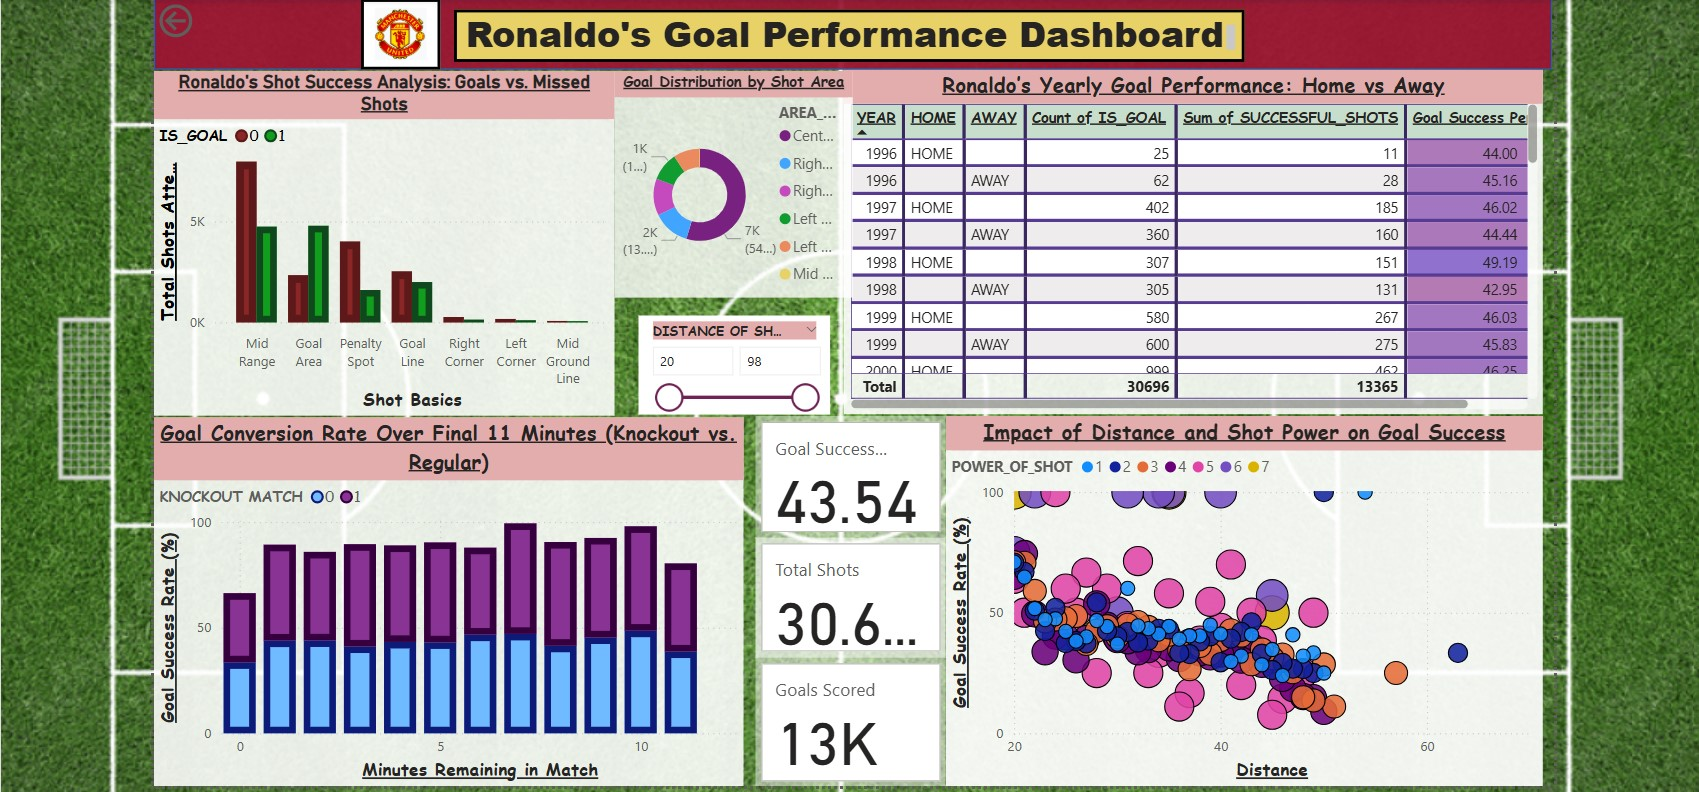

Layout of this report page (visuals, bound fields, positions):
{"tool":"powerbi","page":{"name":"Page 1","canvas":[1280,720],"ordinal":0},"visuals":[{"type":"clusteredColumnChart","title":"Ronaldo''s Shot Success Analysis: Goals vs. Missed Shots","fields":{"Y":["Count(RONALDO CS.SHOT_ID_NUMBER)"],"Category":["RONALDO CS.SHOT_BASICS"],"Series":["RONALDO CS.IS_GOAL"]},"box":[0,65.9,421.3,315.6],"z":0},{"type":"slicer","fields":{"Values":["RONALDO CS.DISTANCE_OF_SHOT"]},"box":[443.3,289.6,175.7,90.6],"z":1000},{"type":"lineStackedColumnComboChart","title":"Goal Conversion Rate Over Final 11 Minutes (Knockout vs. Regular)","fields":{"Series":["RONALDO CS.KNOCKOUT_MATCH"],"Category":["RONALDO CS.REMAINING_MIN"],"Y":["RONALDO CS.Goal Success Percentage"]},"box":[0,382.9,539.3,337.6],"z":2000},{"type":"tableEx","title":"Ronaldo’s Yearly Goal Performance: Home vs Away","fields":{"Values":["RONALDO CS.YEAR","RONALDO CS.HOME","RONALDO CS.Away","CountNonNull(RONALDO CS.IS_GOAL)","Sum(RONALDO CS.SUCCESSFUL_SHOTS)","RONALDO CS.Goal Success Percentage"]},"box":[631.3,64.5,639.5,315.6],"z":3000},{"type":"cardVisual","fields":{"Data":["RONALDO CS.Goal Success Percentage"]},"box":[550.3,381.5,174.3,111.2],"z":4000},{"type":"cardVisual","title":"Total Shots","fields":{"Data":["CountNonNull(RONALDO CS.IS_GOAL)"]},"box":[550.3,492.7,174.3,109.8],"z":5000},{"type":"scatterChart","title":"Impact of Distance and  Shot Power on Goal Success","fields":{"Size":["Avg(RONALDO CS.POWER_OF_SHOT)"],"X":["RONALDO CS.DISTANCE_OF_SHOT"],"Series":["RONALDO CS.POWER_OF_SHOT"],"Y":["RONALDO CS.Goal Success Percentage"]},"box":[724.6,381.5,546.2,339],"z":6000},{"type":"cardVisual","fields":{"Data":["RONALDO CS.Goals Scored"]},"box":[550.3,602.5,174.3,118],"z":7000},{"type":"shape","box":[0,0,1279,64.5],"z":8000},{"type":"textbox","box":[274.5,9.6,723.2,48],"z":9000},{"type":"image","box":[189.4,0,72.7,64.5],"z":10000},{"type":"donutChart","title":"Goal Distribution by Shot Area","fields":{"Category":["RONALDO CS.AREA_OF_SHOT"],"Y":["Sum(RONALDO CS.SUCCESSFUL_SHOTS)"]},"box":[421.3,65.9,218.2,207.2],"z":11000},{"type":"actionButton","box":[0,0,100,40],"z":12000}]}

Visuals, with their boxes on the page's 1280x720 design canvas (x1, y1, x2, y2). These are canvas units, not pixel positions in the 1699x792 screenshot, which may show the page scaled, cropped or inside an application window:
"Ronaldo''s Shot Success Analysis: Goals vs. Missed Shots" clusteredColumnChart: (0, 66, 421, 382)
slicer - RONALDO CS.DISTANCE_OF_SHOT: (443, 290, 619, 380)
"Goal Conversion Rate Over Final 11 Minutes (Knockout vs. Regular)" lineStackedColumnComboChart: (0, 383, 539, 720)
"Ronaldo’s Yearly Goal Performance: Home vs Away" tableEx: (631, 64, 1271, 380)
cardVisual - RONALDO CS.Goal Success Percentage: (550, 382, 725, 493)
"Total Shots" cardVisual: (550, 493, 725, 602)
"Impact of Distance and  Shot Power on Goal Success" scatterChart: (725, 382, 1271, 720)
cardVisual - RONALDO CS.Goals Scored: (550, 602, 725, 720)
shape: (0, 0, 1279, 64)
textbox: (274, 10, 998, 58)
image: (189, 0, 262, 64)
"Goal Distribution by Shot Area" donutChart: (421, 66, 640, 273)
actionButton: (0, 0, 100, 40)
